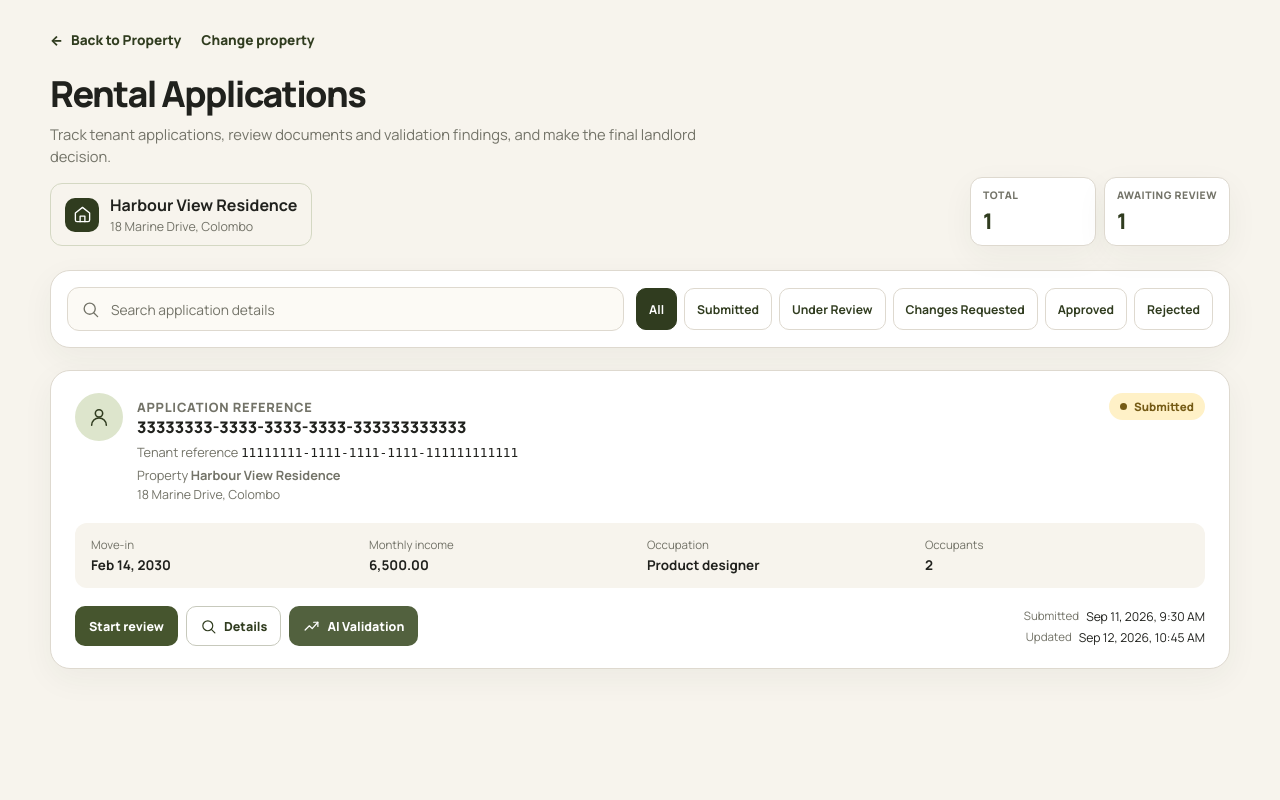
Test: Landlord rental applications › shows API-backed document details in a readable review section
Step 1. Click the button "Details" → (234, 626), box [186, 606, 281, 646]
(page scrolled)
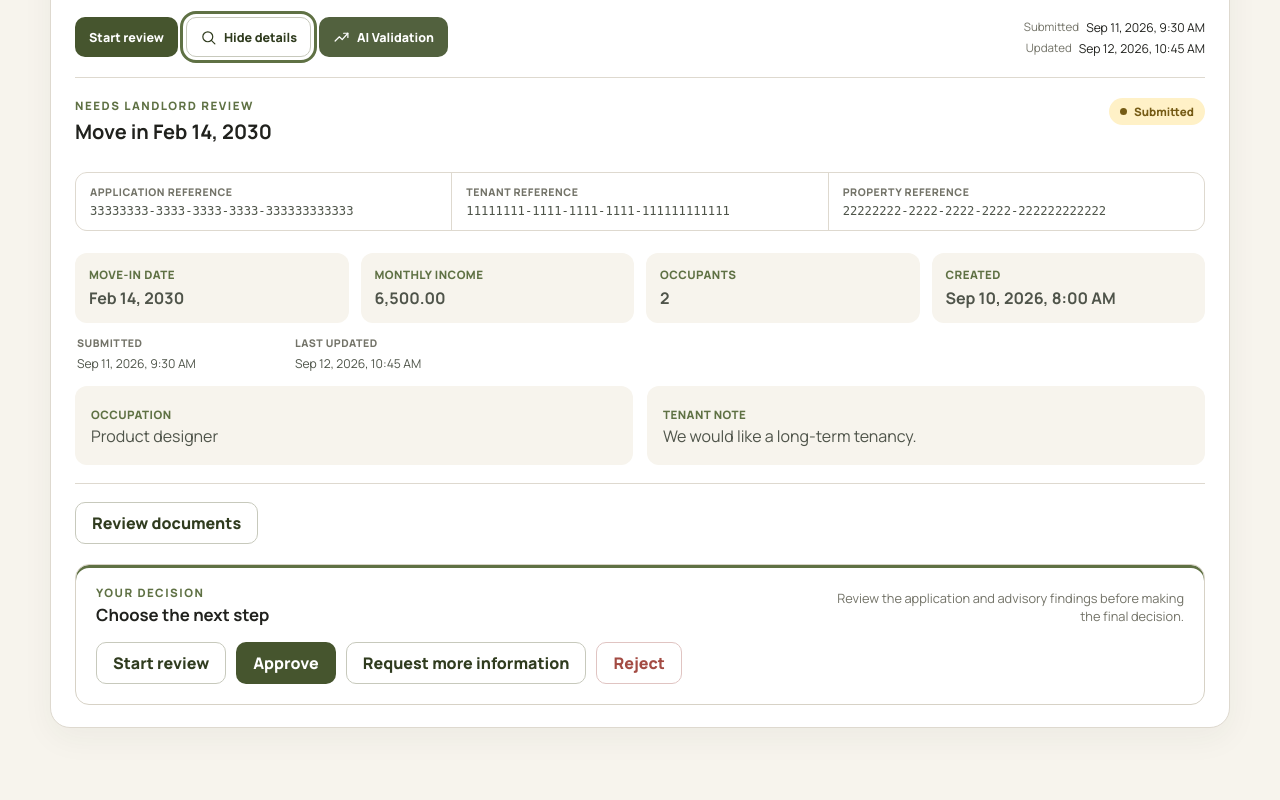
Step 2. Click the button "Review documents" → (167, 523), box [75, 502, 258, 544]
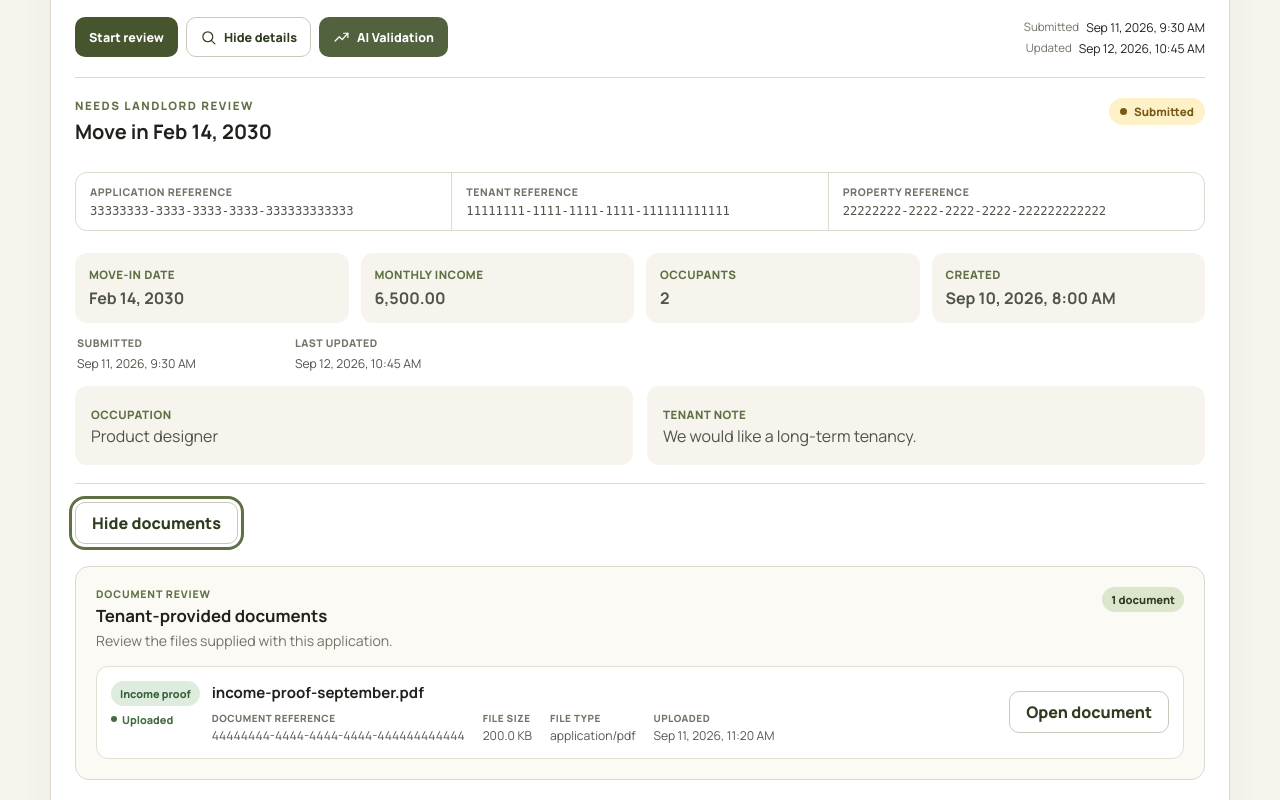
Expected: the text "1 document" is shown, [1102, 587, 1184, 612]
Expected: the text "Income proof" is shown, [111, 681, 200, 706]
Expected: the heading "income-proof-september.pdf" is shown, [212, 682, 424, 703]
